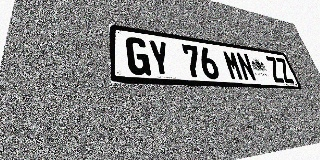6: (197, 46, 221, 79)
7: (180, 44, 205, 79)
G: (125, 36, 151, 76)
M: (222, 50, 244, 81)
N: (235, 52, 257, 81)
Y: (147, 39, 172, 77)
Z: (265, 56, 285, 83), (275, 57, 295, 83)
